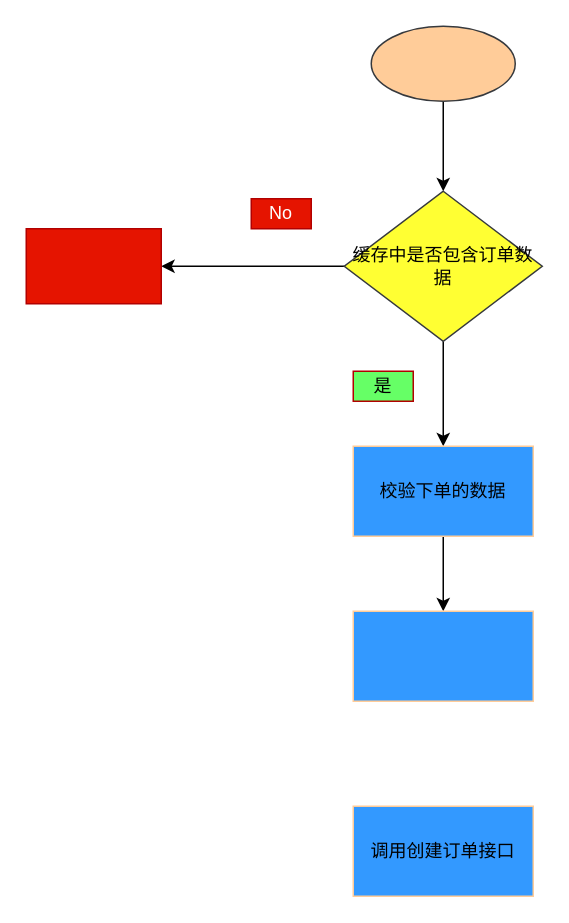
Some shapes in this 569 by 923 pixel diagram are drawn without their labels. The centre of each missing label's shape, as x and y in pixels:
"提交订单" belongs at pixel 442 63.
"校验支付方式" belongs at pixel 442 655.
"给出对应的提示" belongs at pixel 93 265.
